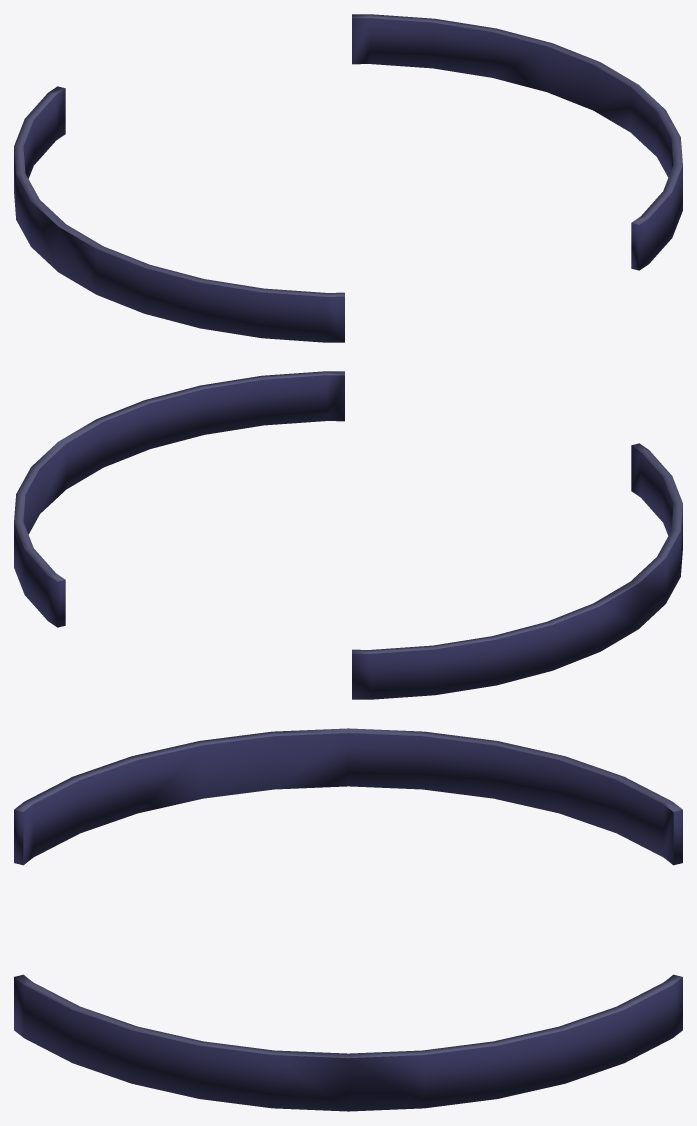
File: single_stage_4_wall.fbx
The picture shows the model from 3 angles, top to bottom: view 1: azimuth 30°, elevation 25°; view 2: azimuth 150°, elevation 25°; view 3: azimuth 270°, elevation 25°; orthographic projection. The views are drawn at different scales.
Parts seen in each view (by area): view 1: Cylinder.069; view 2: Cylinder.069; view 3: Cylinder.069.
Boxes of the visible parts, <box> form: Cylinder.069: <box>14,14,682,342</box>; Cylinder.069: <box>14,371,682,699</box>; Cylinder.069: <box>14,728,682,1111</box>.
Bounding box in the file's own units: 2400 × 181 × 2058.
